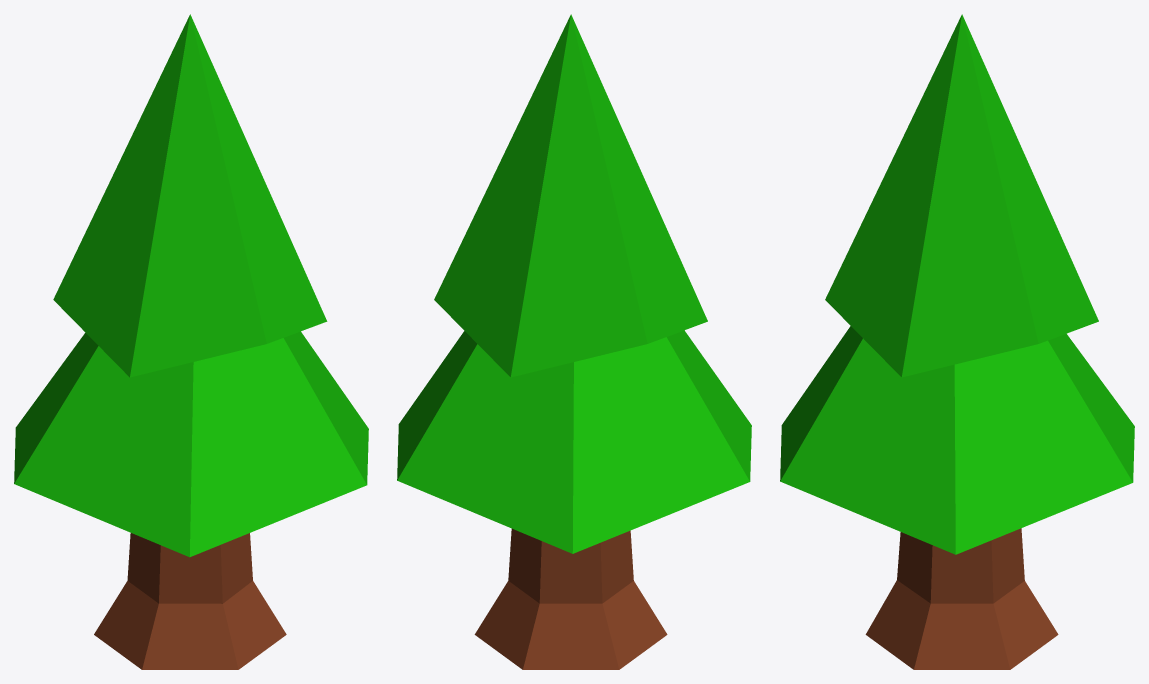
Rendered from arvore.fbx.
The picture shows the model from 3 angles, left to right: view 1: azimuth 30°, elevation 25°; view 2: azimuth 150°, elevation 25°; view 3: azimuth 270°, elevation 25°; orthographic projection.
Parts seen in each view (by area): view 1: Cilindro; view 2: Cilindro; view 3: Cilindro.
Part boxes in pixels (box(x1,y1,x2,y2)): Cilindro: box(14, 14, 368, 669); Cilindro: box(397, 14, 751, 669); Cilindro: box(780, 14, 1134, 669).
Bounding box in the file's own units: 649 × 1091 × 565.
